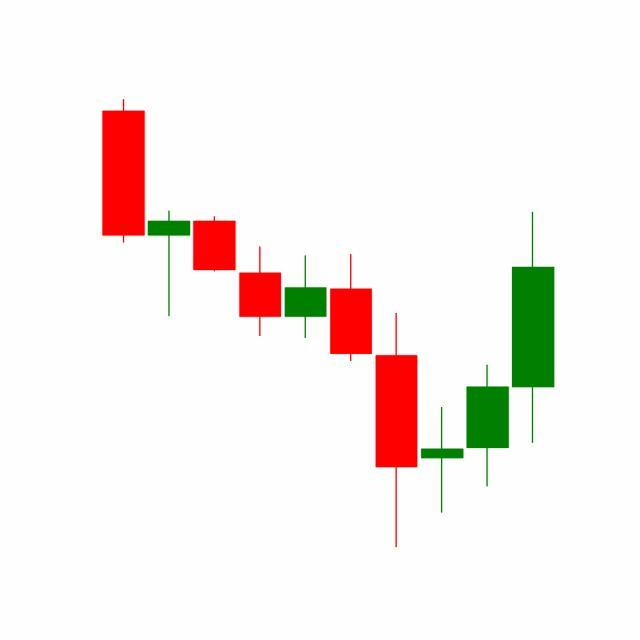Hikkake Pattern: (283, 250, 512, 549)
